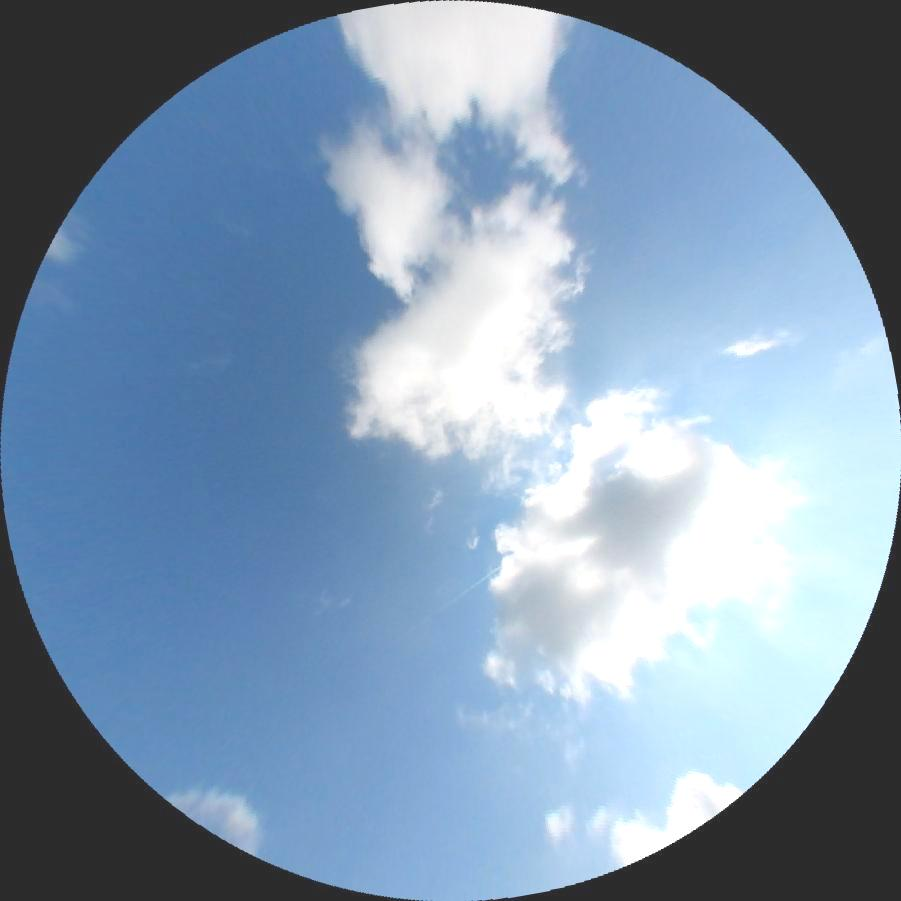contrail young: (401, 565, 500, 636)
